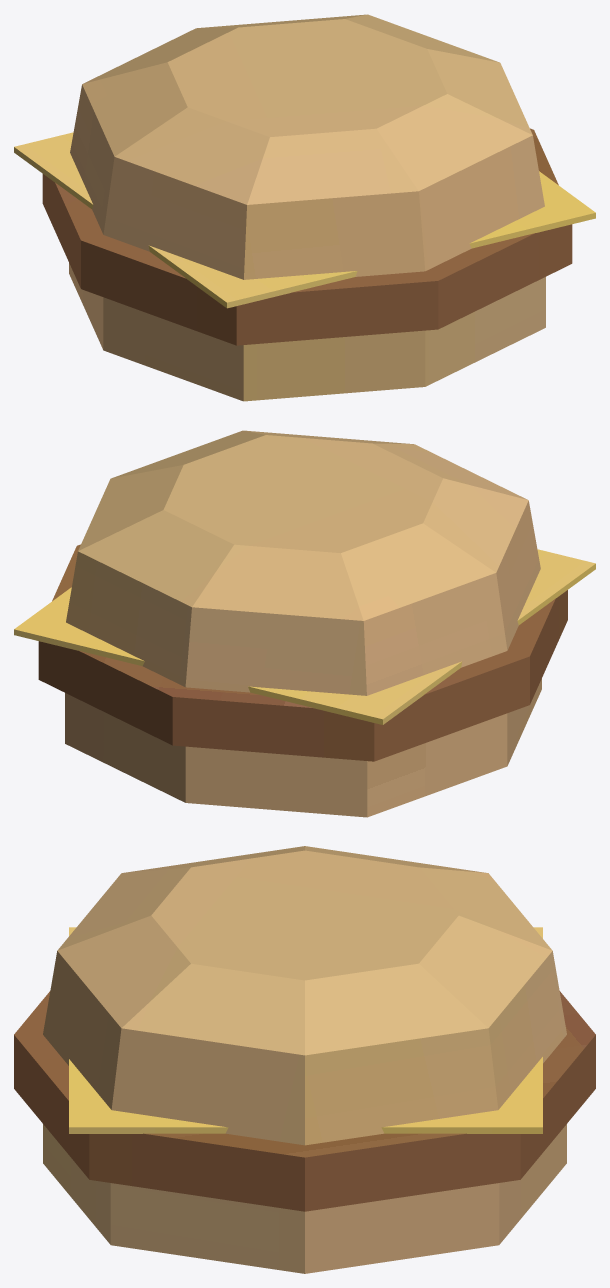
The model's file is 0W4JDAPuTZf.glb.
3 views of the same model, one above another, from view 1: azimuth 30°, elevation 25°; view 2: azimuth 150°, elevation 25°; view 3: azimuth 270°, elevation 25° (orthographic). The views are drawn at different scales.
Parts seen in each view (by area): view 1: Cube.018_Cube.028; view 2: Cube.018_Cube.028; view 3: Cube.018_Cube.028.
Part boxes in pixels (box(x1,y1,x2,y2)): Cube.018_Cube.028: box(14, 14, 595, 401); Cube.018_Cube.028: box(14, 430, 595, 817); Cube.018_Cube.028: box(14, 846, 595, 1273).
Size of the model in its own units: 2.13 by 1 by 2.13.
1 material, 1 textured.
